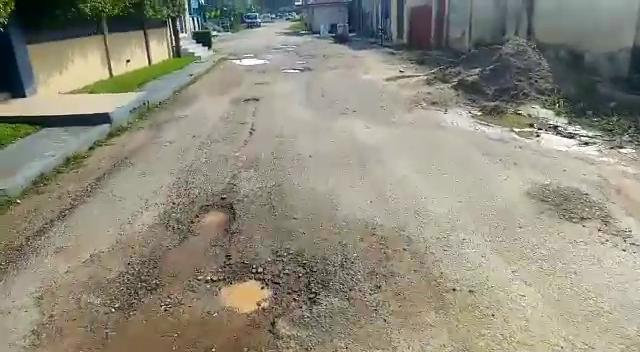pothole: (212, 267, 289, 314), (187, 204, 238, 241), (224, 58, 270, 66)
